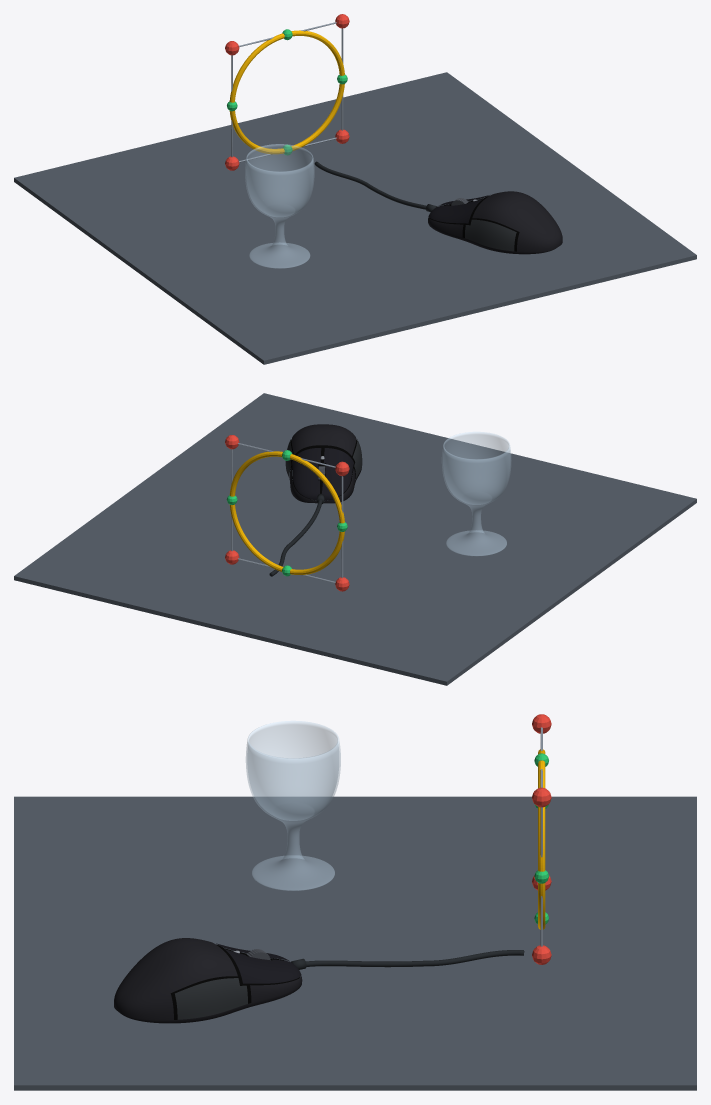
The model's file is ish10.glb.
3 views of the same model, one above another, from view 1: azimuth 30°, elevation 25°; view 2: azimuth 150°, elevation 25°; view 3: azimuth 270°, elevation 25° (orthographic). The views are drawn at different scales.
Parts seen in each view (by area): view 1: Pol, Qadah_Lathe, Sichqoncha_ULoft, NURBS_aylana, Sichqoncha_Yon_rezina, Sichqoncha_Tugma_chap, Hull, Sichqoncha_Kabel; view 2: Pol, Qadah_Lathe, NURBS_aylana, Sichqoncha_ULoft, Sichqoncha_Tugma_ong, Sichqoncha_Tugma_chap, Hull, Sichqoncha_Tirqish; view 3: Pol, Qadah_Lathe, Sichqoncha_ULoft, Sichqoncha_Yon_rezina, Sichqoncha_Tugma_ong, Sichqoncha_Kabel, NURBS_aylana, Sichqoncha_Tirqish.
Boxes of the visible parts, left/top/right/bottom form: Pol: left=14, top=72, right=696, bottom=364; Qadah_Lathe: left=245, top=144, right=314, bottom=268; Sichqoncha_ULoft: left=428, top=191, right=562, bottom=254; NURBS_aylana: left=229, top=30, right=344, bottom=154; Sichqoncha_Yon_rezina: left=465, top=219, right=516, bottom=251; Sichqoncha_Tugma_chap: left=428, top=198, right=483, bottom=223; Hull: left=231, top=22, right=343, bottom=162; Sichqoncha_Kabel: left=314, top=161, right=426, bottom=209; Pol: left=14, top=393, right=696, bottom=685; Qadah_Lathe: left=442, top=432, right=511, bottom=555; NURBS_aylana: left=229, top=451, right=344, bottom=574; Sichqoncha_ULoft: left=286, top=424, right=361, bottom=503; Sichqoncha_Tugma_ong: left=292, top=448, right=321, bottom=500; Sichqoncha_Tugma_chap: left=322, top=448, right=353, bottom=500; Hull: left=231, top=443, right=343, bottom=582; Sichqoncha_Tirqish: left=290, top=439, right=357, bottom=499; Pol: left=14, top=796, right=696, bottom=1090; Qadah_Lathe: left=246, top=721, right=340, bottom=890; Sichqoncha_ULoft: left=114, top=938, right=302, bottom=1023; Sichqoncha_Yon_rezina: left=175, top=978, right=247, bottom=1019; Sichqoncha_Tugma_ong: left=224, top=949, right=301, bottom=983; Sichqoncha_Kabel: left=306, top=950, right=524, bottom=967; NURBS_aylana: left=538, top=749, right=545, bottom=929; Sichqoncha_Tirqish: left=170, top=944, right=300, bottom=1019.
Bounding box in the file's own units: 1.1 × 0.346 × 1.1.
